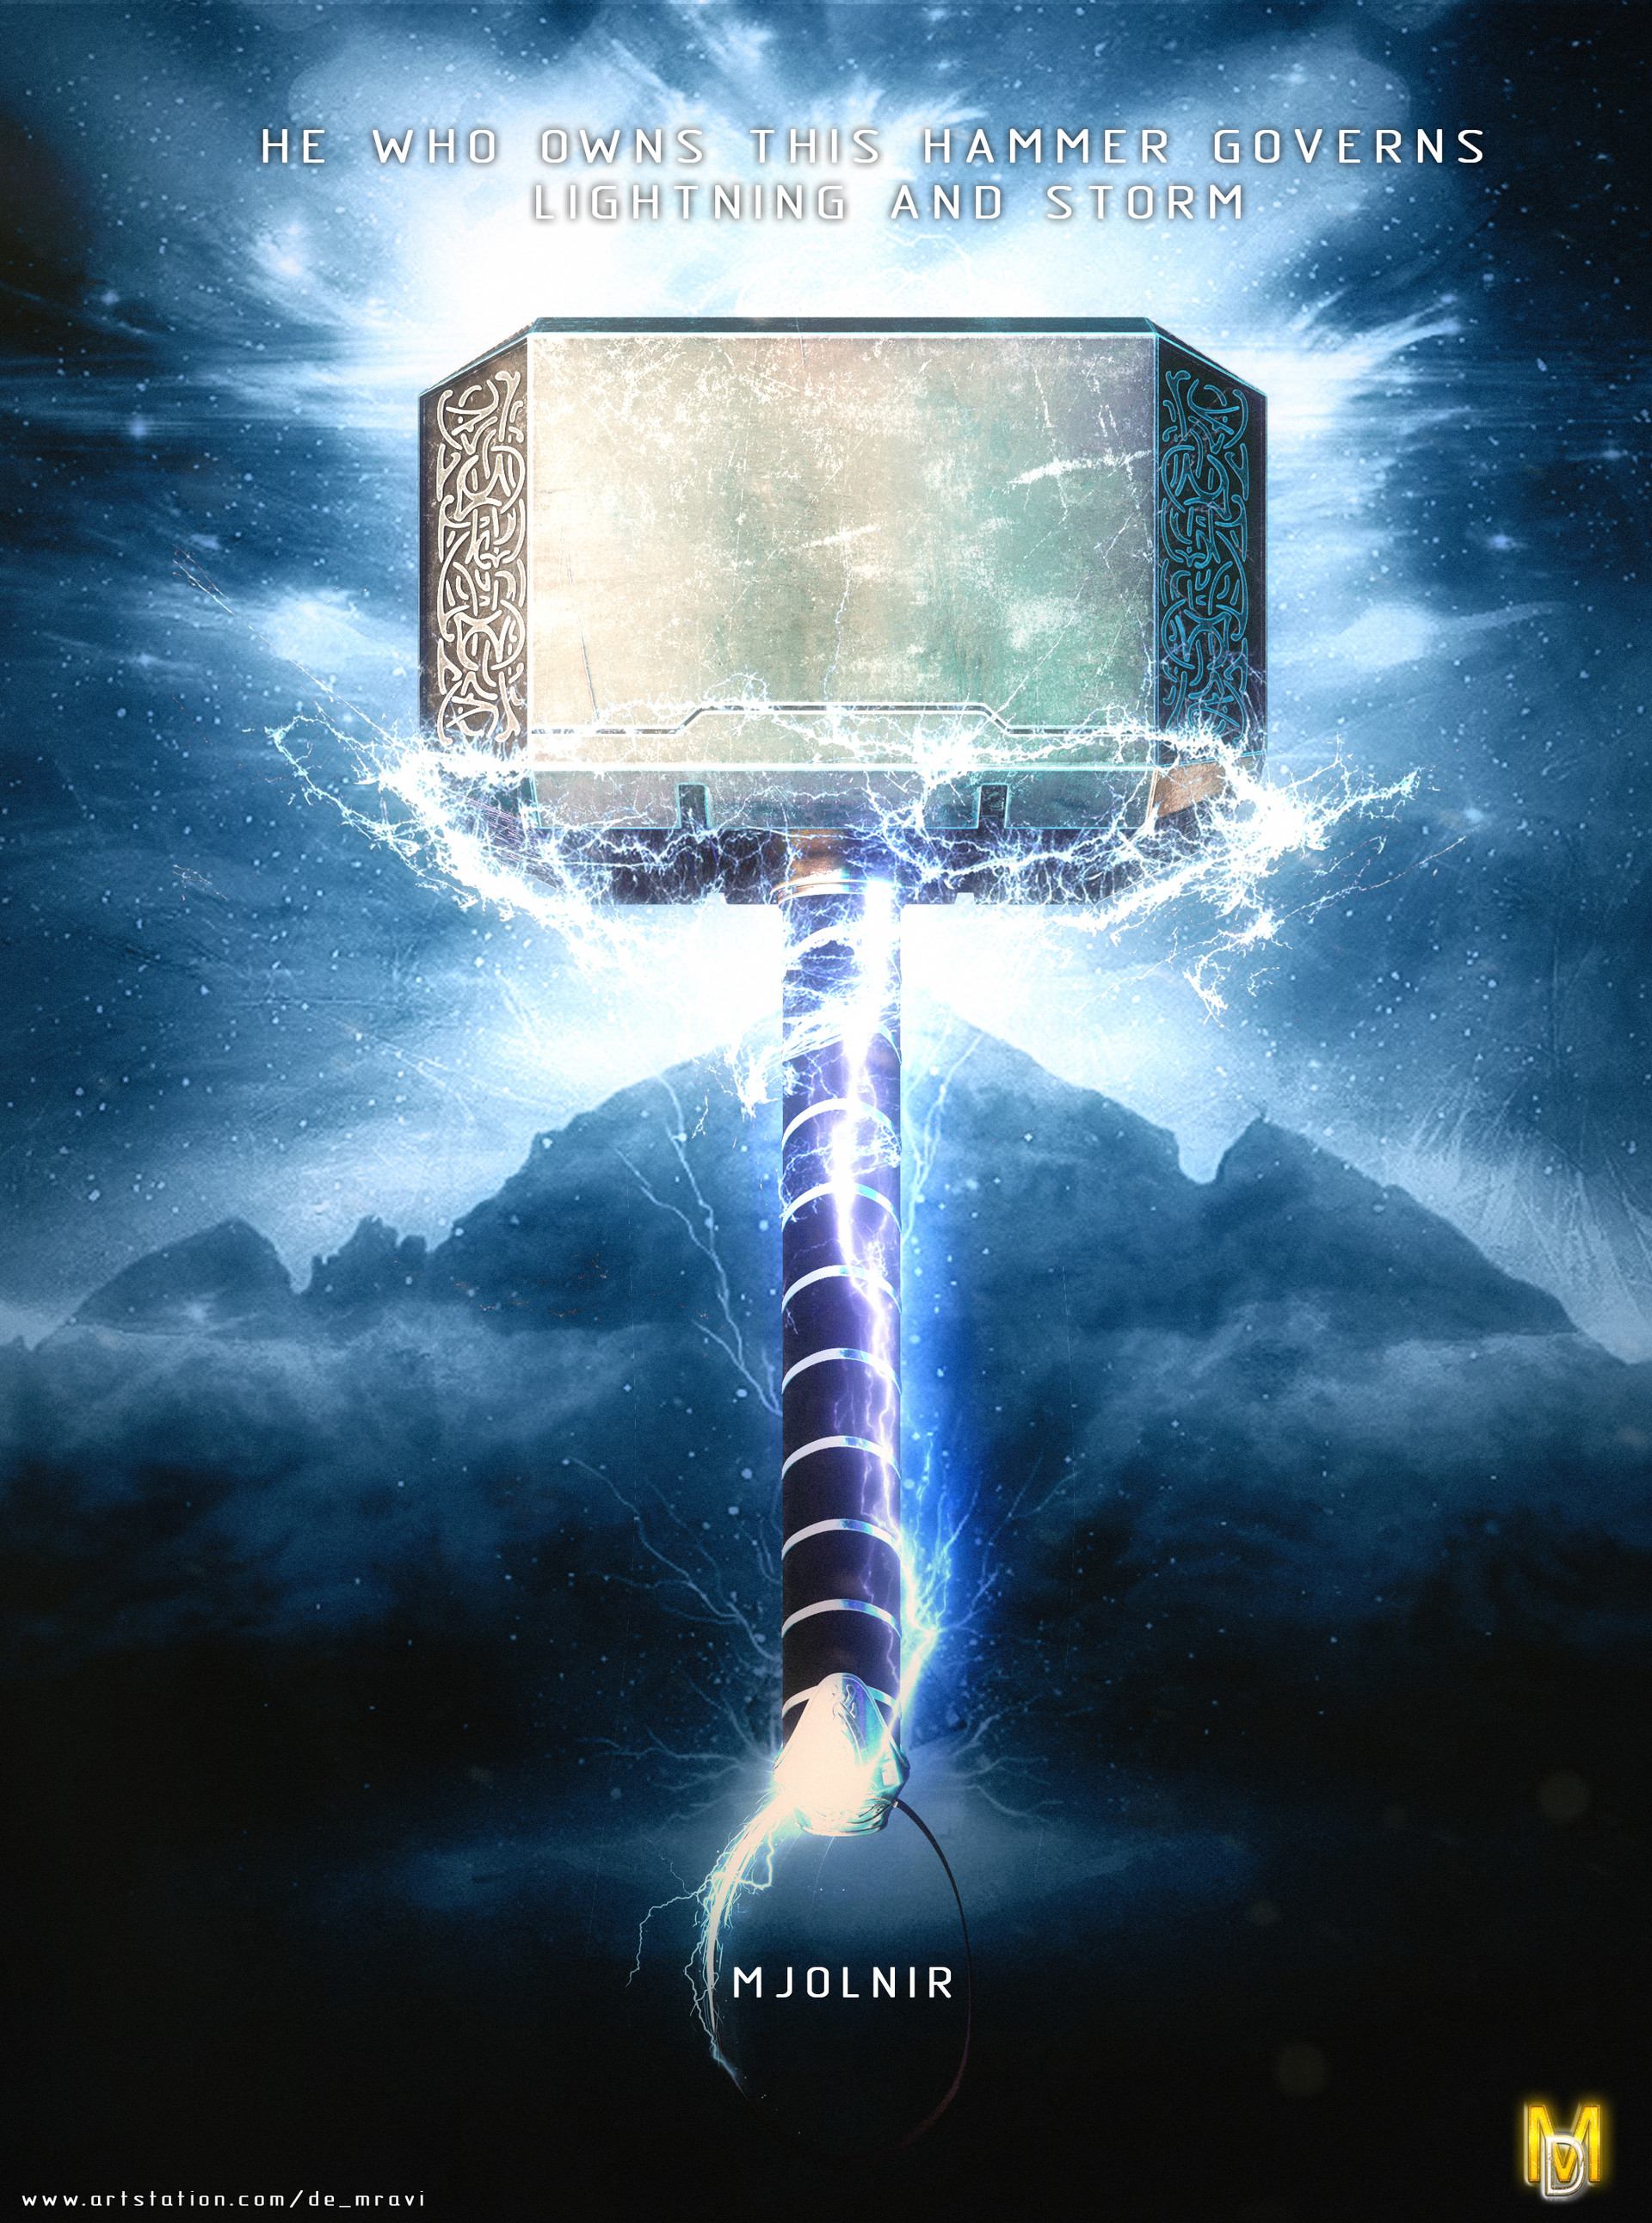THOR Hammer: (396, 264, 1371, 1822)
